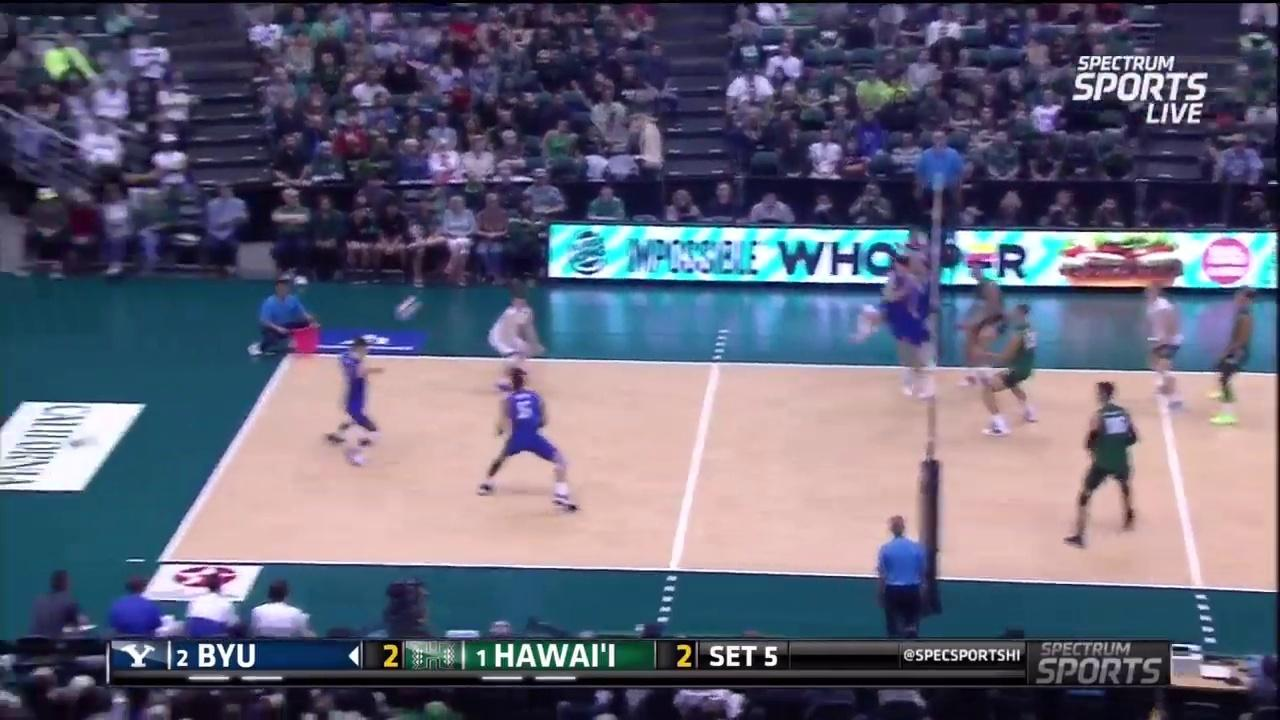player: (475, 369, 577, 509), (1066, 384, 1140, 541), (975, 301, 1036, 432), (324, 337, 383, 466), (1139, 276, 1192, 414), (898, 231, 939, 408), (959, 256, 1014, 386), (866, 248, 916, 390), (488, 290, 550, 394), (1216, 275, 1256, 435)
refree: (869, 512, 932, 644), (245, 273, 326, 363), (919, 128, 966, 228)
